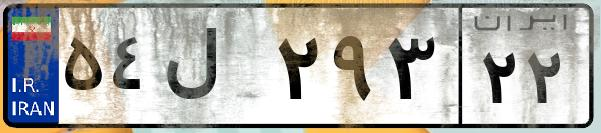2: (270, 28, 330, 110), (475, 38, 525, 113), (525, 38, 570, 115)
3: (385, 28, 445, 110)
4: (110, 28, 158, 98)
5: (57, 26, 110, 100)
9: (330, 28, 385, 110)
ل: (158, 20, 270, 120)
